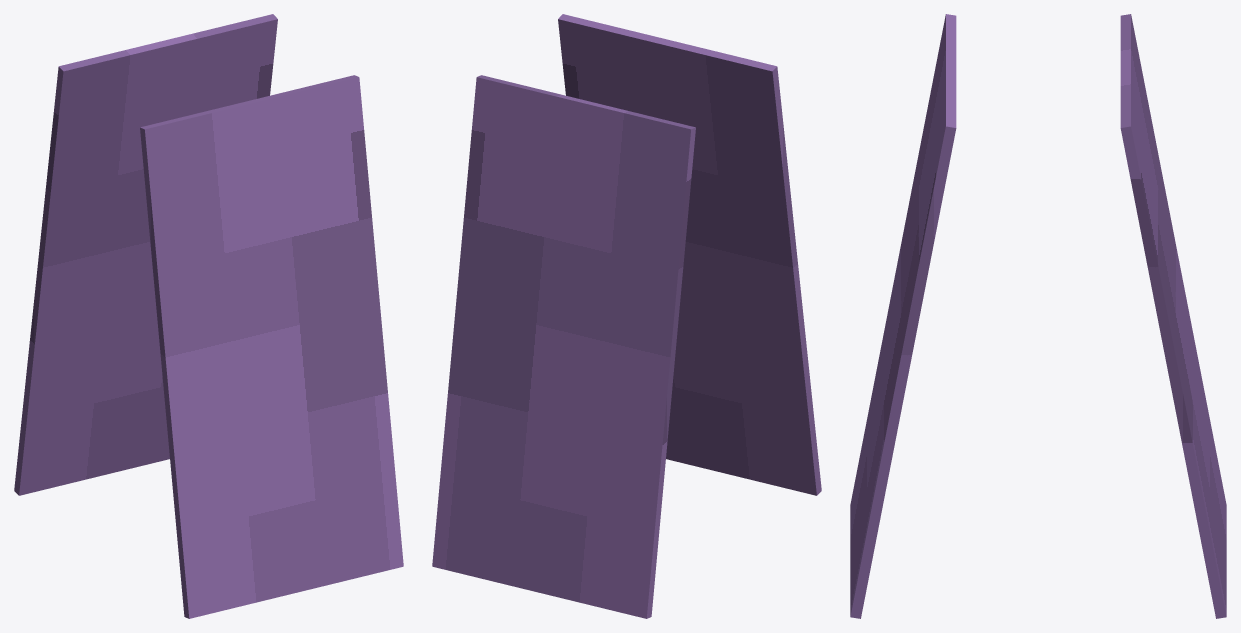
The model's file is wet_floor_sign.fbx.
The picture shows the model from 3 angles, left to right: view 1: azimuth 30°, elevation 25°; view 2: azimuth 150°, elevation 25°; view 3: azimuth 270°, elevation 25°; orthographic projection. The views are drawn at different scales.
Parts seen in each view (by area): view 1: wet_floor_sign; view 2: wet_floor_sign; view 3: wet_floor_sign.
Boxes of the visible parts, left/top/right/bottom form: wet_floor_sign: left=14, top=14, right=403, bottom=618; wet_floor_sign: left=432, top=14, right=821, bottom=618; wet_floor_sign: left=850, top=14, right=1226, bottom=618.
Bounding box in the file's own units: 30 × 61.27 × 42.41.
